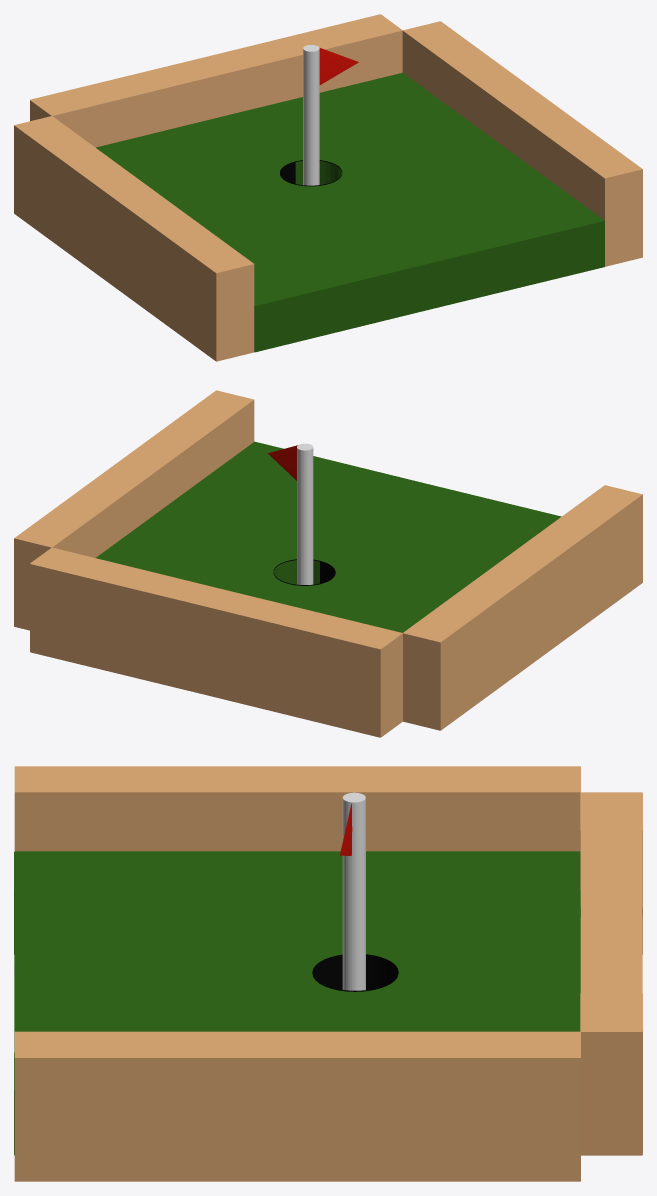
Rendered from NewLego8.fbx.
The picture shows the model from 3 angles, top to bottom: view 1: azimuth 30°, elevation 25°; view 2: azimuth 150°, elevation 25°; view 3: azimuth 270°, elevation 25°; orthographic projection. The views are drawn at different scales.
Visible parts, largest first — view 1: Cube.073, Cube.064, Pole.005, flag.005; view 2: Cube.064, Cube.073, Pole.005, flag.005; view 3: Cube.064, Cube.073, Pole.005, Cylinder.005.
Boxes of the visible parts, <box> form: Cube.073: <box>96,72,604,352</box>; Cube.064: <box>14,14,642,361</box>; Pole.005: <box>303,45,319,185</box>; flag.005: <box>319,48,358,84</box>; Cube.064: <box>14,390,642,737</box>; Cube.073: <box>96,441,561,632</box>; Pole.005: <box>297,443,313,584</box>; flag.005: <box>268,445,297,480</box>; Cube.064: <box>14,766,642,1181</box>; Cube.073: <box>14,851,580,1155</box>; Pole.005: <box>342,792,365,990</box>; Cylinder.005: <box>312,954,398,991</box>.
Bounding box in the file's own units: 220 × 84.73 × 201.
